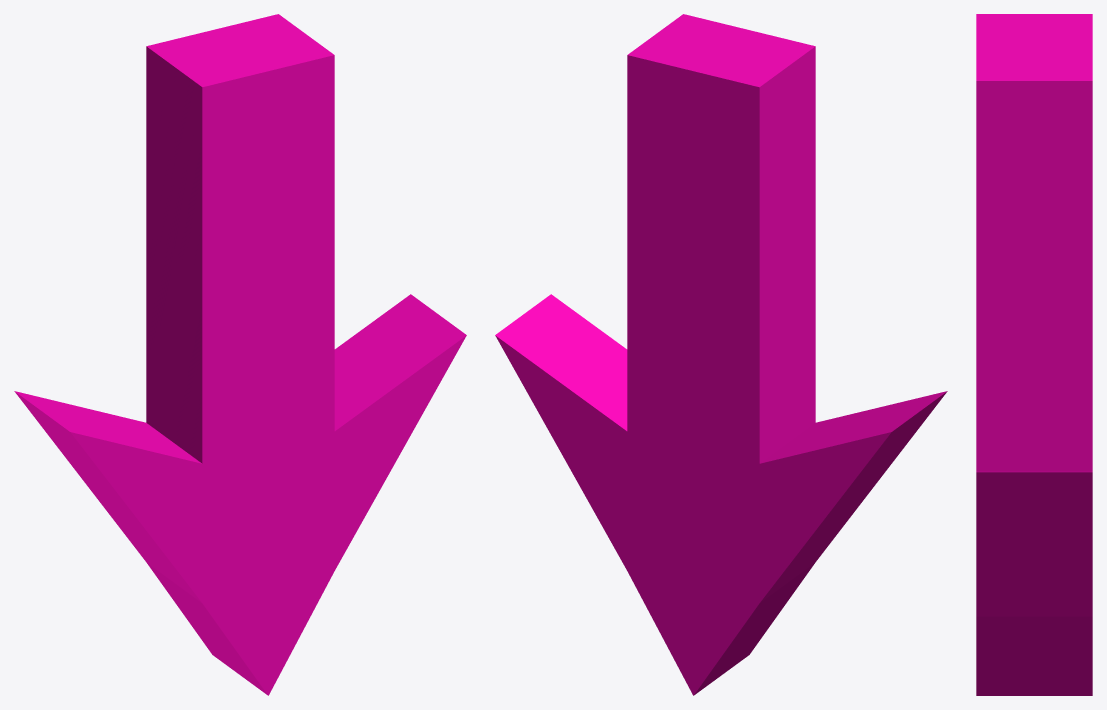
Rendered from arrow.fbx.
The picture shows the model from 3 angles, left to right: view 1: azimuth 30°, elevation 25°; view 2: azimuth 150°, elevation 25°; view 3: azimuth 270°, elevation 25°; orthographic projection. The views are drawn at different scales.
Visible parts, largest first — view 1: Plane; view 2: Plane; view 3: Plane.
Boxes of the visible parts, x1,y1,x2,y2 form: Plane: (14, 14, 466, 695); Plane: (495, 14, 947, 695); Plane: (976, 14, 1092, 695).
Bounding box in the file's own units: 133 × 200 × 32.55.
